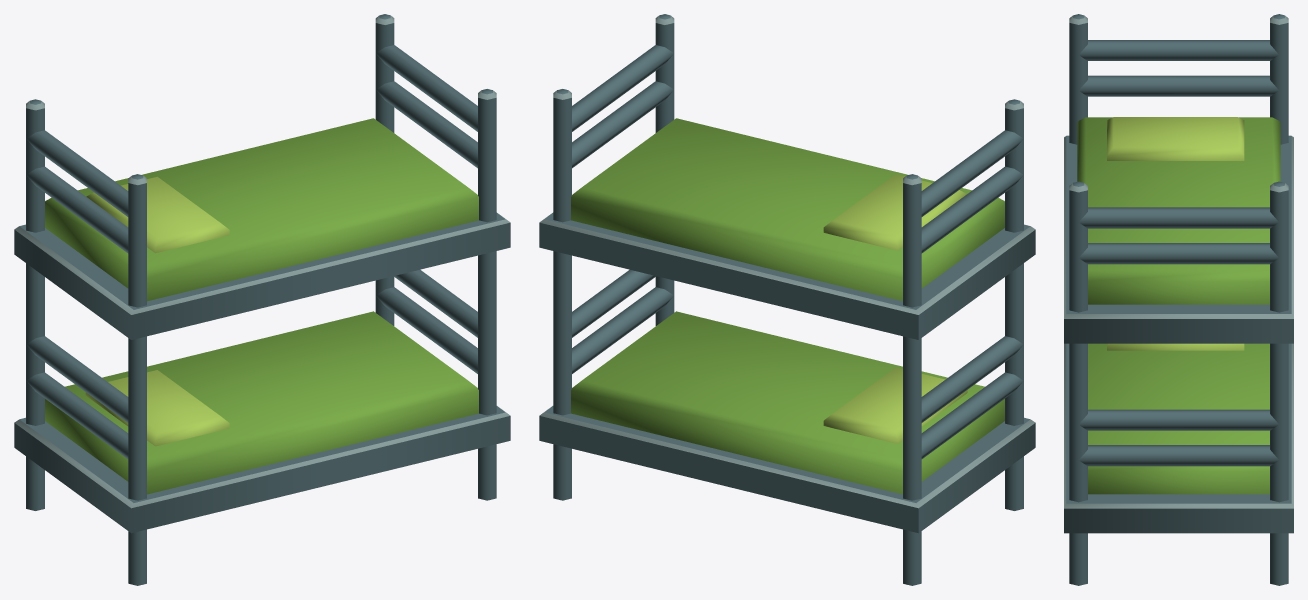
Rendered from BunkBed.fbx.
The picture shows the model from 3 angles, left to right: view 1: azimuth 30°, elevation 25°; view 2: azimuth 150°, elevation 25°; view 3: azimuth 270°, elevation 25°; orthographic projection.
Parts seen in each view (by area): view 1: BunkBed; view 2: BunkBed; view 3: BunkBed.
Part boxes in pixels (box(x1,y1,x2,y2)): BunkBed: box(14, 14, 510, 585); BunkBed: box(539, 14, 1035, 585); BunkBed: box(1064, 14, 1293, 585).
Bounding box in the file's own units: 179 × 182 × 95.4.
